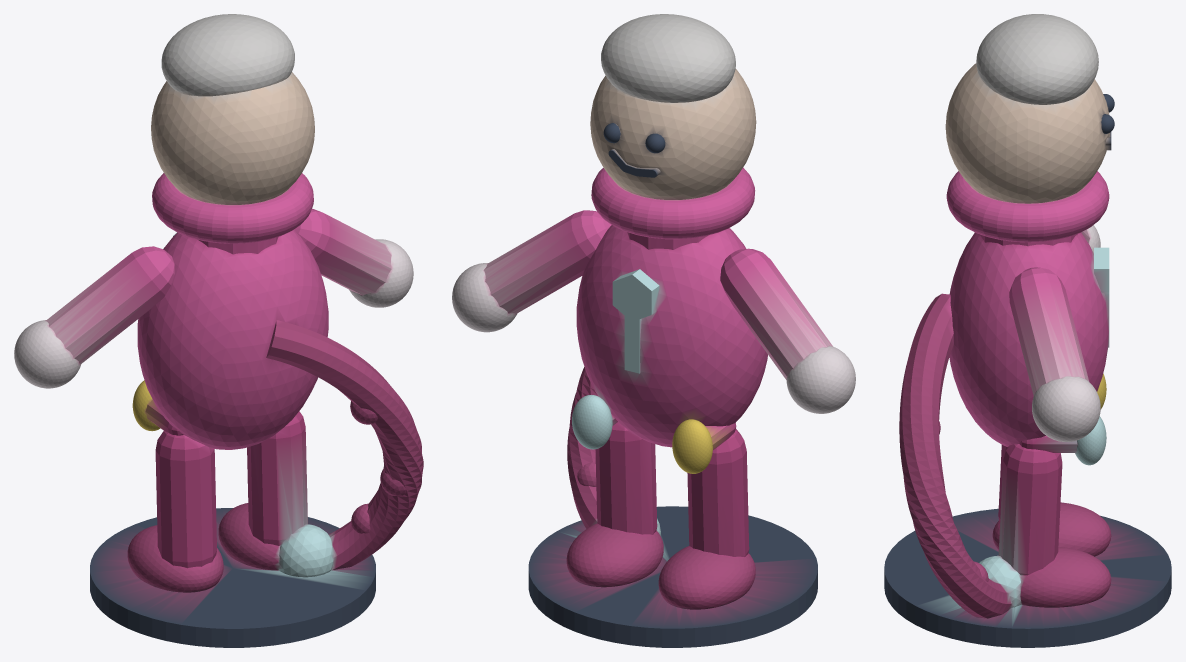
Rendered from neuronaut-glia-preview.glb.
3 renders of one model, left to right at view 1: azimuth 30°, elevation 25°; view 2: azimuth 150°, elevation 25°; view 3: azimuth 270°, elevation 25°, orthographic.
Visible parts, largest first — view 1: geometry_0; view 2: geometry_0; view 3: geometry_0.
Boxes of the visible parts, bbox=[...] form: geometry_0: bbox=[14, 14, 423, 647]; geometry_0: bbox=[452, 14, 855, 647]; geometry_0: bbox=[884, 14, 1171, 647].
Size of the model in its own units: 0.0472 by 0.0649 by 0.03.
